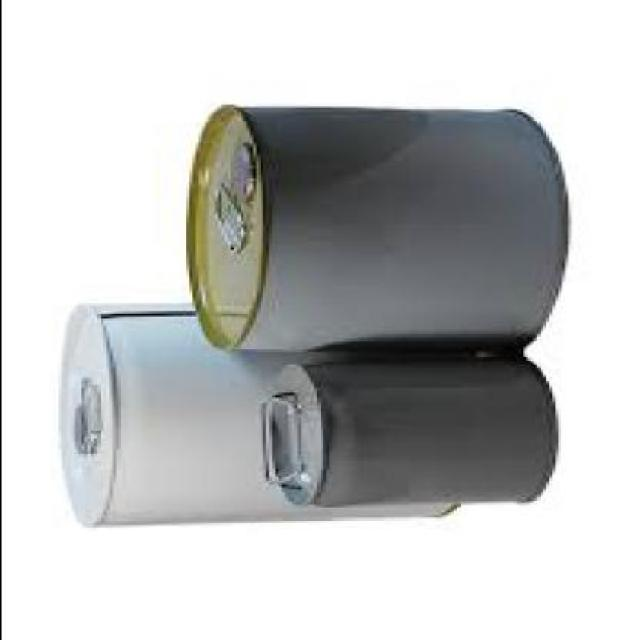METAL: (181, 101, 557, 357), (48, 301, 455, 522), (258, 352, 551, 502)
